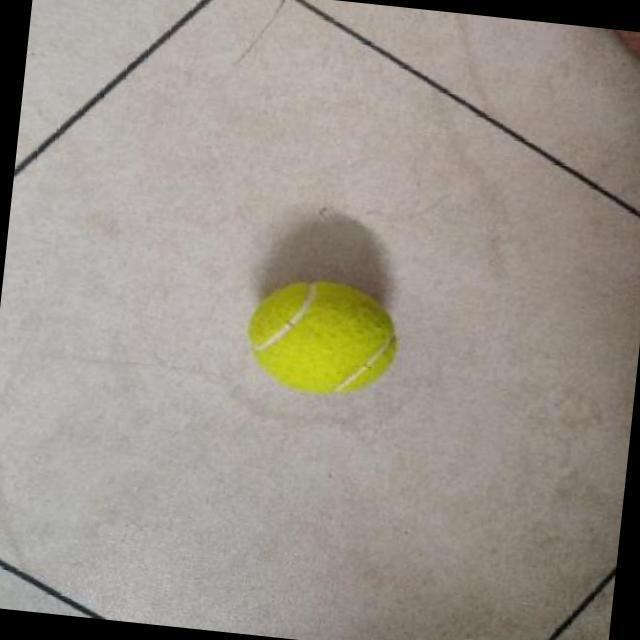-: (237, 266, 418, 409)
